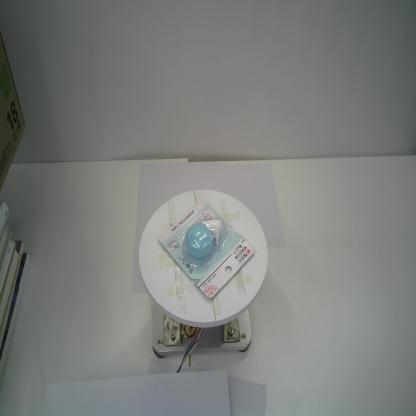Stationery: (158, 200, 255, 298)
